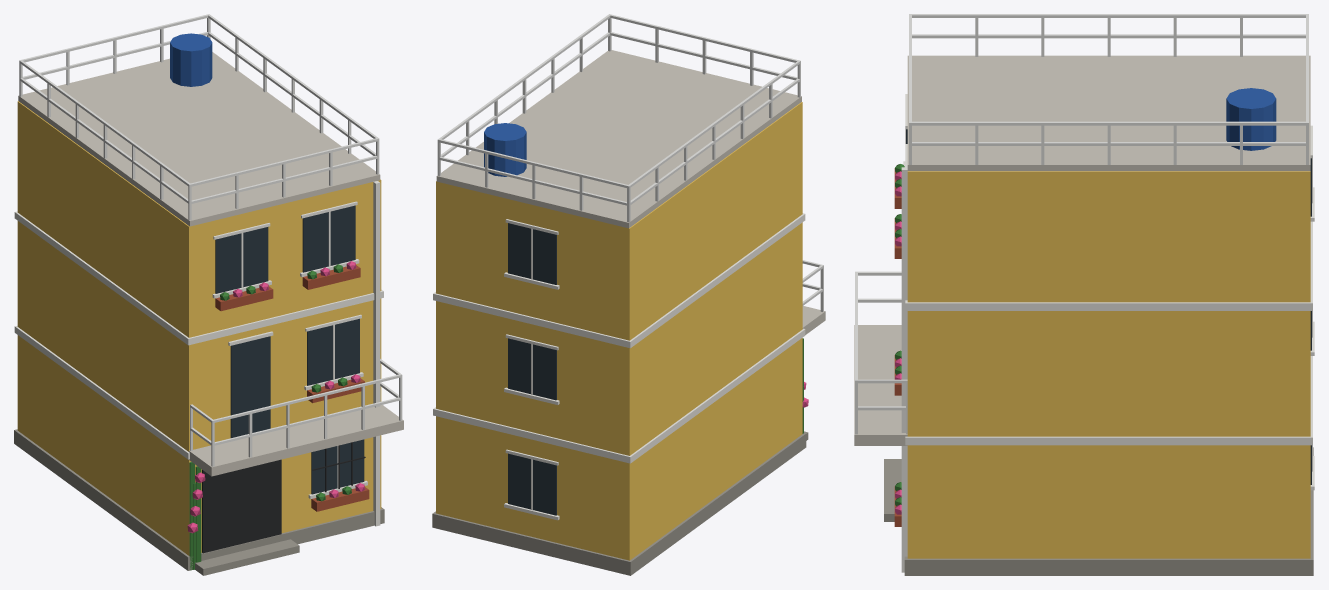
The model's file is BAY_F_ThreeStorey_Q.glb.
3 views of the same model, side by side, from view 1: azimuth 30°, elevation 25°; view 2: azimuth 150°, elevation 25°; view 3: azimuth 270°, elevation 25° (orthographic). The views are drawn at different scales.
Parts seen in each view (by area): view 1: BAY_F_ThreeStorey_Q; view 2: BAY_F_ThreeStorey_Q; view 3: BAY_F_ThreeStorey_Q.
Boxes of the visible parts, x1=… form: BAY_F_ThreeStorey_Q: x1=14, y1=14, x2=403, y2=575; BAY_F_ThreeStorey_Q: x1=432, y1=14, x2=825, y2=575; BAY_F_ThreeStorey_Q: x1=854, y1=14, x2=1314, y2=575.
Bounding box in the file's own units: 4.52 × 8.4 × 7.77.
1 material, 1 textured.
